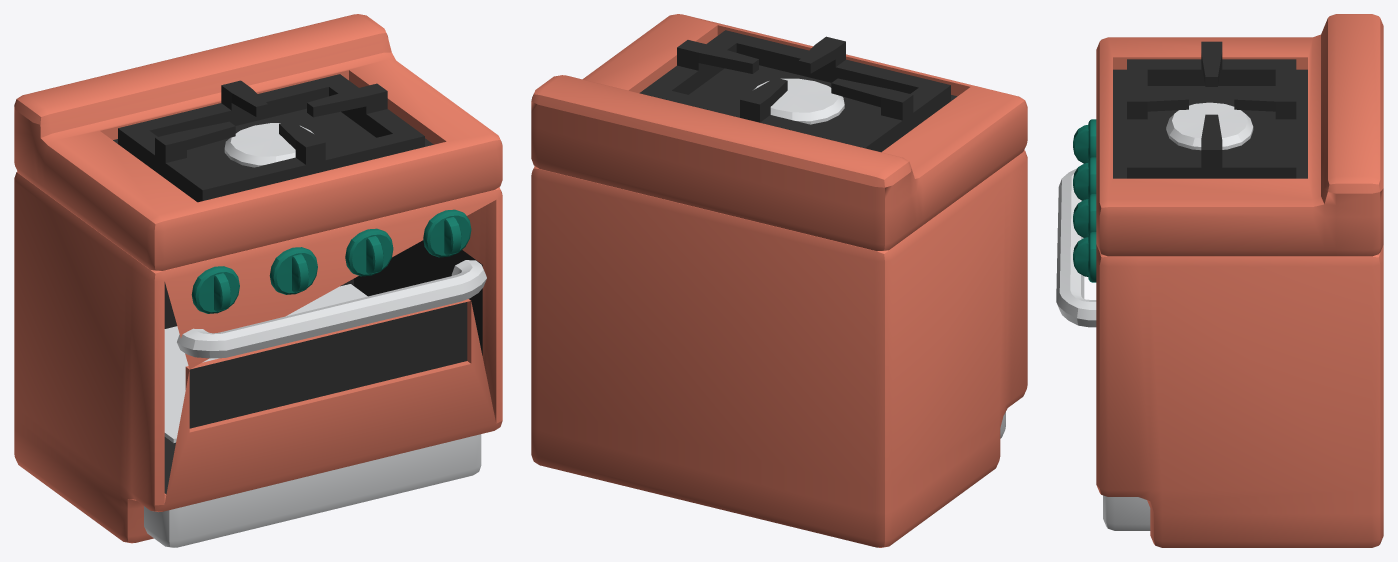
File: stove_b.glb
The picture shows the model from 3 angles, left to right: view 1: azimuth 30°, elevation 25°; view 2: azimuth 150°, elevation 25°; view 3: azimuth 270°, elevation 25°; orthographic projection.
Parts seen in each view (by area): view 1: body, door; view 2: body; view 3: body, door.
Part boxes in pixels (x1=…): body: x1=14, y1=14, x2=502, y2=547; door: x1=154, y1=260, x2=502, y2=511; body: x1=531, y1=14, x2=1027, y2=547; body: x1=1073, y1=14, x2=1383, y2=547; door: x1=1056, y1=168, x2=1100, y2=493.
Bounding box in the file's own units: 0.9 × 0.9 × 0.72.
